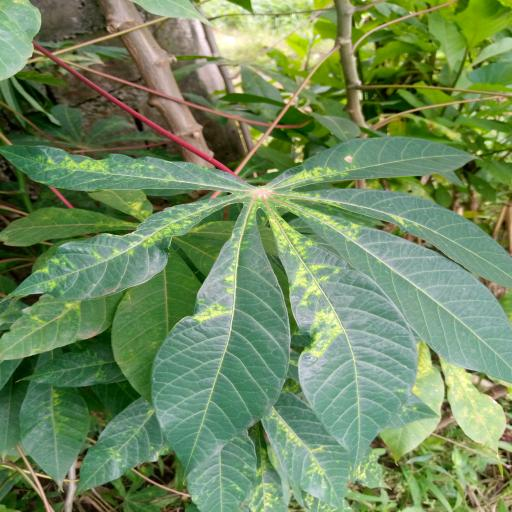Cassava_Mosaic: (3, 128, 512, 464)
